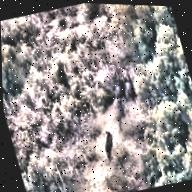boar: (95, 121, 117, 159), (109, 93, 127, 129), (120, 66, 135, 96), (111, 73, 126, 101), (121, 63, 130, 76)
